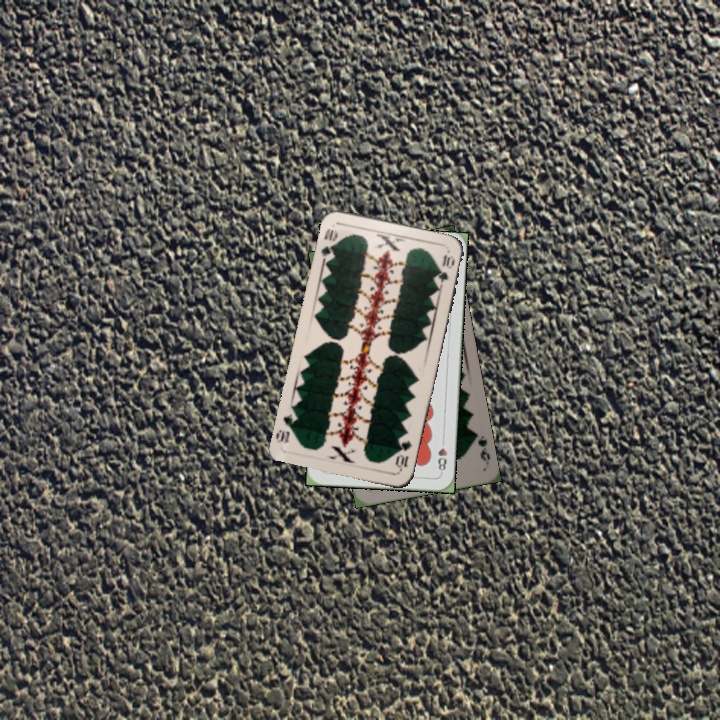G10: (392, 436, 415, 473), (317, 225, 340, 262)
G9: (469, 428, 493, 463)
H8: (434, 435, 450, 476)
